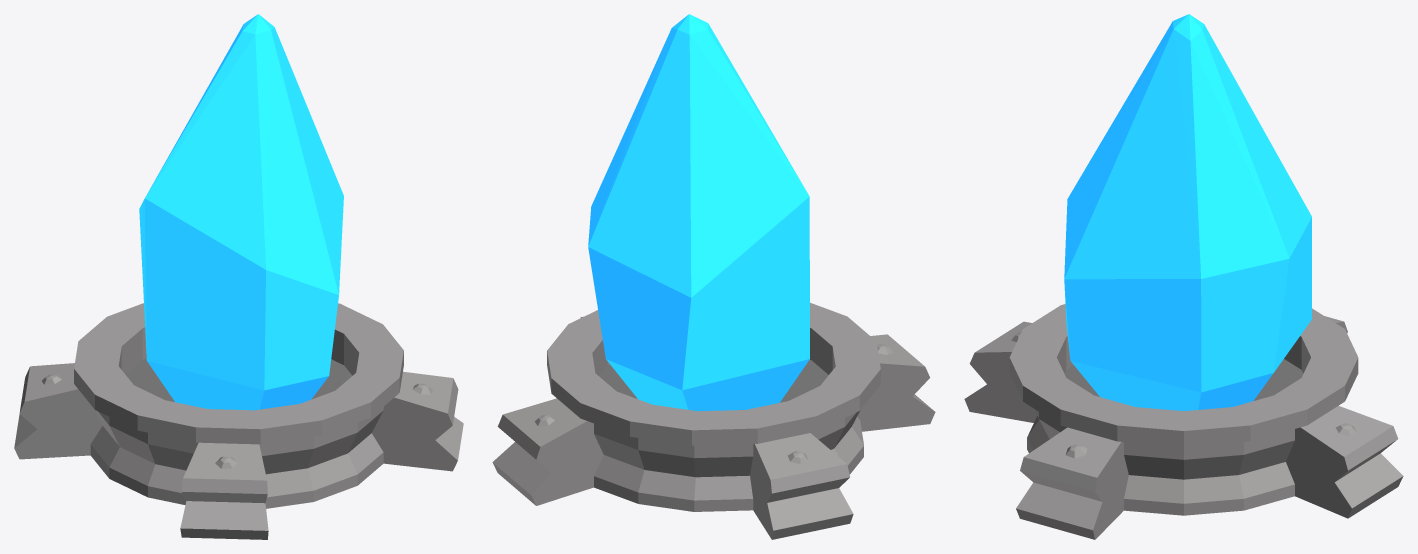
The model's file is SmlMagicTrap_2_Metal.fbx.
3 renders of one model, left to right at view 1: azimuth 30°, elevation 25°; view 2: azimuth 150°, elevation 25°; view 3: azimuth 270°, elevation 25°, orthographic. The views are drawn at different scales.
Visible parts, largest first — view 1: SmlMagicTrap_2_Metal; view 2: SmlMagicTrap_2_Metal; view 3: SmlMagicTrap_2_Metal.
Boxes of the visible parts, box(x1,y1,x2,y2) form: SmlMagicTrap_2_Metal: box(14, 14, 463, 539); SmlMagicTrap_2_Metal: box(492, 14, 935, 539); SmlMagicTrap_2_Metal: box(964, 14, 1403, 539).
Bounding box in the file's own units: 41.71 × 46.81 × 41.71.
